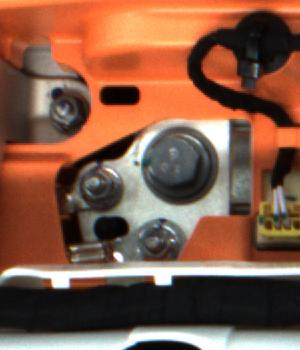nut_b: (131, 121, 221, 204)
